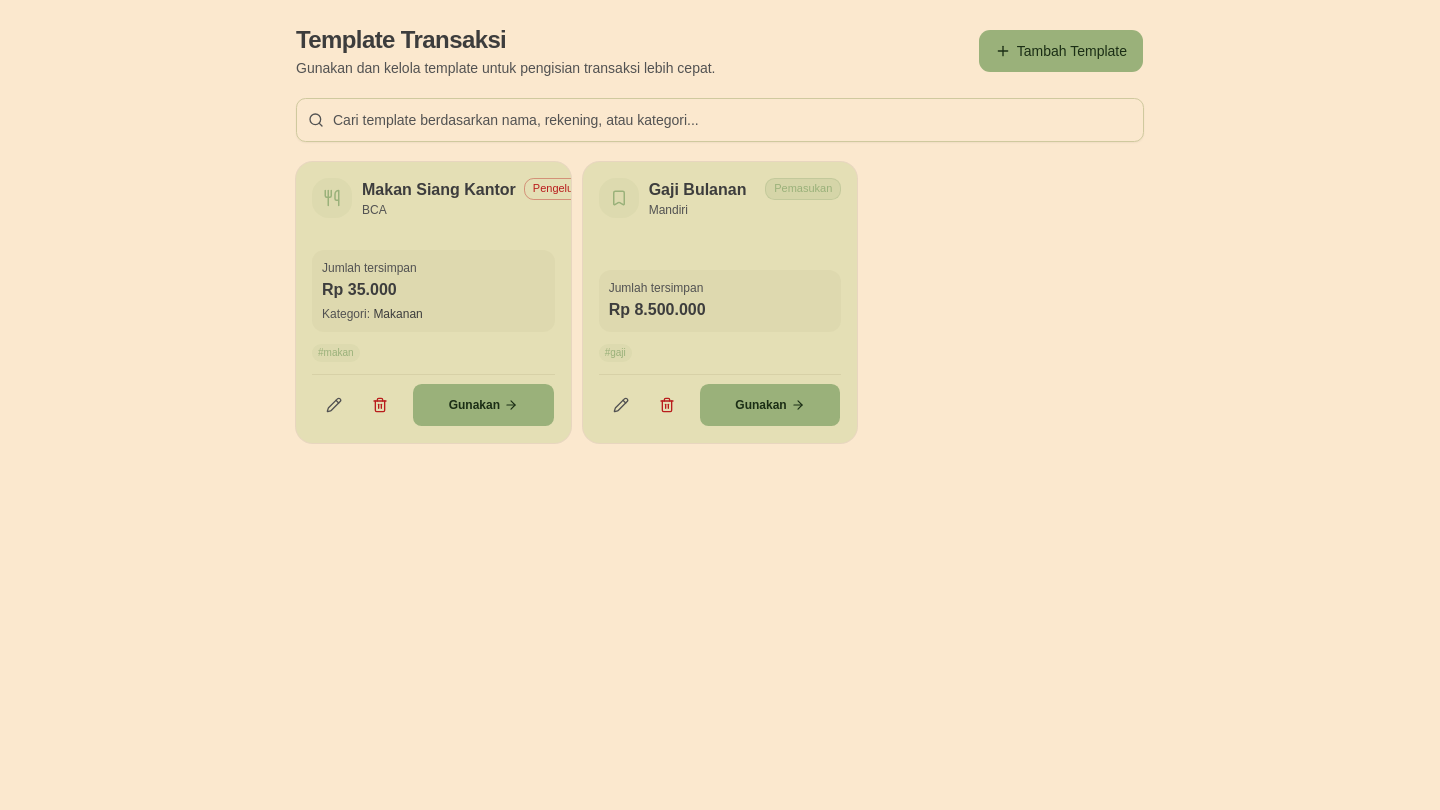
Test: TemplatesPage › opens create template dialog when Tambah Template is clicked
Click the button "Tambah Template".
click(1061, 51)  # box [978,29,1144,73]
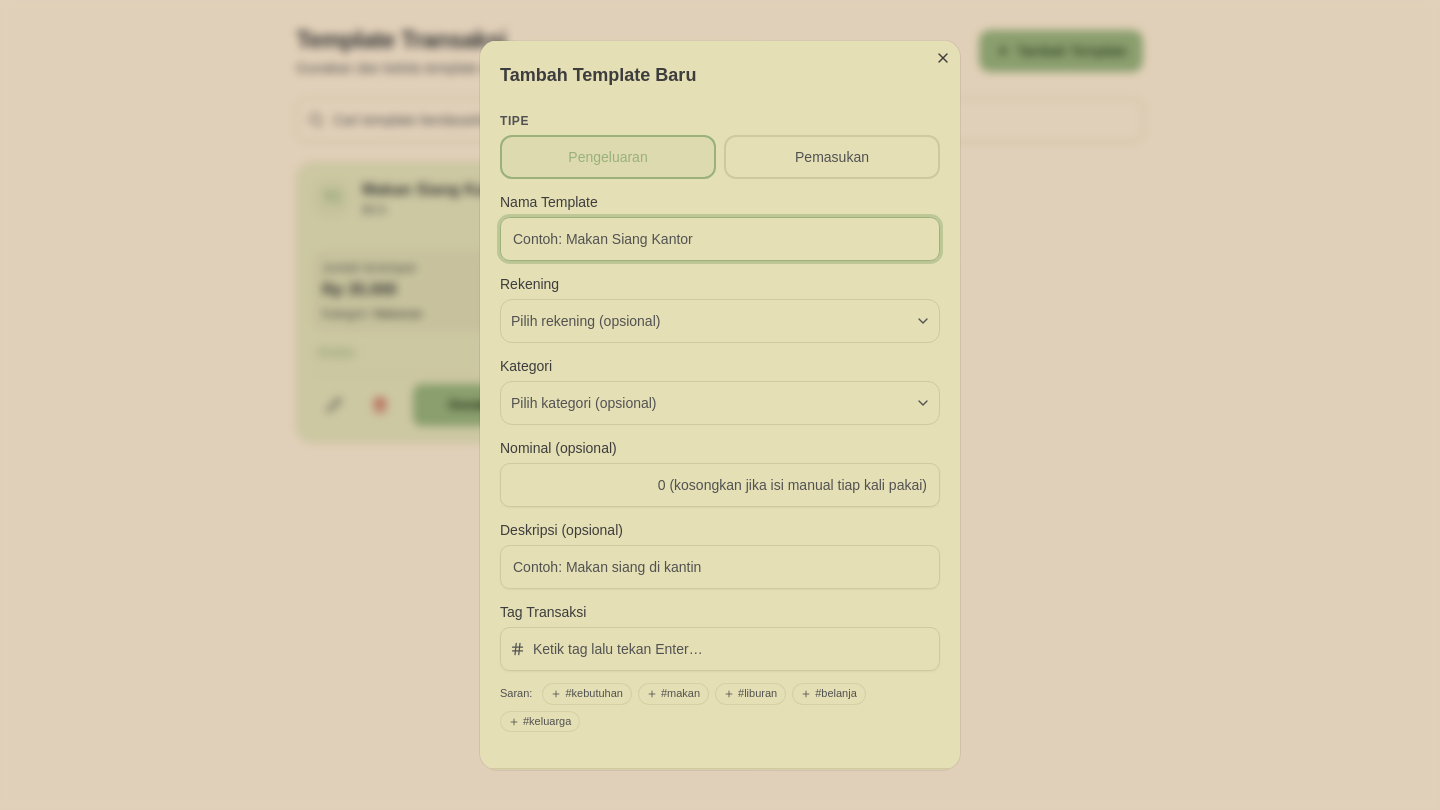
Now the heading "Tambah Template Baru" is shown, box [500,64,696,84]
